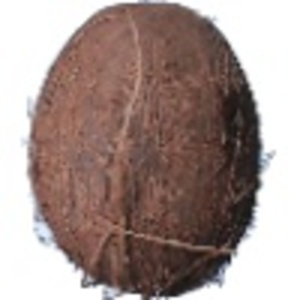coco: (21, 1, 273, 300)
